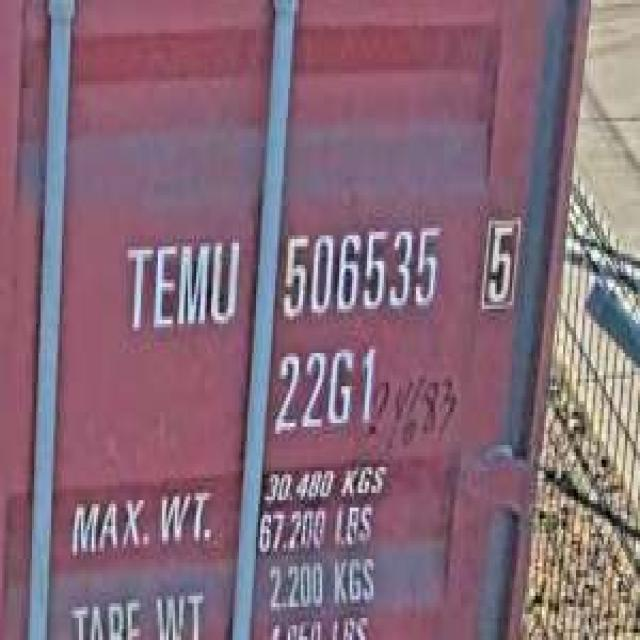dv: (476, 202, 522, 316)
owner: (117, 224, 241, 338)
serial: (275, 213, 446, 324)
size: (268, 338, 378, 442)
